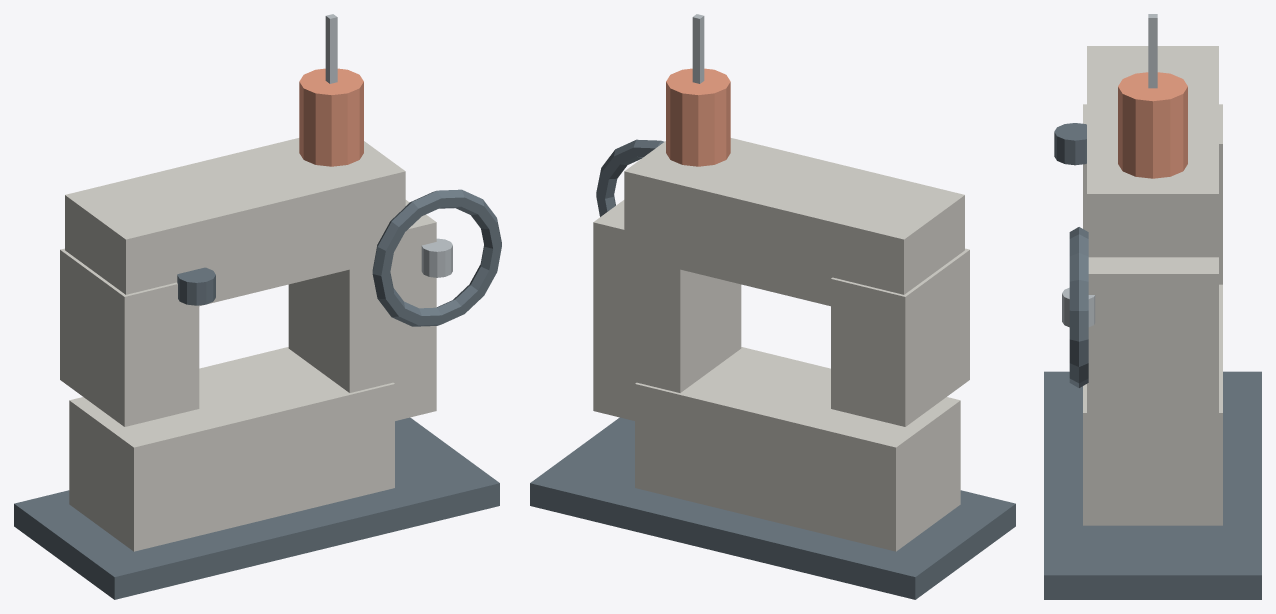
Rendered from warehouse_sewing_machine.glb.
The picture shows the model from 3 angles, left to right: view 1: azimuth 30°, elevation 25°; view 2: azimuth 150°, elevation 25°; view 3: azimuth 270°, elevation 25°; orthographic projection. The views are drawn at different scales.
Visible parts, largest first — view 1: Prop_01_01_Sewing_01_LowerBody_geo, Prop_03_03_Sewing_03_UpperArm_geo, Prop_00_00_Sewing_00_BasePlate_geo, Prop_04_04_Sewing_04_NeedleHead_geo, Prop_02_02_Sewing_02_Upright_geo, Prop_10_10_Sewing_10_HandWheel_geo, Prop_08_08_Sewing_08_Spool_geo, Prop_09_09_Sewing_09_TensionKnob_geo, Prop_11_11_Sewing_11_WheelHub_geo, Prop_07_07_Sewing_07_ThreadGuide_geo; view 2: Prop_01_01_Sewing_01_LowerBody_geo, Prop_03_03_Sewing_03_UpperArm_geo, Prop_00_00_Sewing_00_BasePlate_geo, Prop_02_02_Sewing_02_Upright_geo, Prop_04_04_Sewing_04_NeedleHead_geo, Prop_08_08_Sewing_08_Spool_geo, Prop_10_10_Sewing_10_HandWheel_geo, Prop_07_07_Sewing_07_ThreadGuide_geo; view 3: Prop_02_02_Sewing_02_Upright_geo, Prop_00_00_Sewing_00_BasePlate_geo, Prop_03_03_Sewing_03_UpperArm_geo, Prop_01_01_Sewing_01_LowerBody_geo, Prop_08_08_Sewing_08_Spool_geo, Prop_10_10_Sewing_10_HandWheel_geo, Prop_09_09_Sewing_09_TensionKnob_geo, Prop_04_04_Sewing_04_NeedleHead_geo, Prop_07_07_Sewing_07_ThreadGuide_geo, Prop_11_11_Sewing_11_WheelHub_geo.
Boxes of the visible parts, <box> form: Prop_01_01_Sewing_01_LowerBody_geo: <box>69,347,394,551</box>; Prop_03_03_Sewing_03_UpperArm_geo: <box>65,138,405,306</box>; Prop_00_00_Sewing_00_BasePlate_geo: <box>14,417,499,599</box>; Prop_04_04_Sewing_04_NeedleHead_geo: <box>60,248,199,426</box>; Prop_02_02_Sewing_02_Upright_geo: <box>288,200,436,420</box>; Prop_10_10_Sewing_10_HandWheel_geo: <box>372,189,501,326</box>; Prop_08_08_Sewing_08_Spool_geo: <box>299,68,363,166</box>; Prop_09_09_Sewing_09_TensionKnob_geo: <box>177,267,215,305</box>; Prop_11_11_Sewing_11_WheelHub_geo: <box>421,238,452,277</box>; Prop_07_07_Sewing_07_ThreadGuide_geo: <box>325,14,337,83</box>; Prop_01_01_Sewing_01_LowerBody_geo: <box>635,347,960,551</box>; Prop_03_03_Sewing_03_UpperArm_geo: <box>624,138,964,306</box>; Prop_00_00_Sewing_00_BasePlate_geo: <box>530,417,1015,599</box>; Prop_02_02_Sewing_02_Upright_geo: <box>593,200,741,420</box>; Prop_04_04_Sewing_04_NeedleHead_geo: <box>831,248,969,426</box>; Prop_08_08_Sewing_08_Spool_geo: <box>666,68,730,166</box>; Prop_10_10_Sewing_10_HandWheel_geo: <box>596,139,664,216</box>; Prop_07_07_Sewing_07_ThreadGuide_geo: <box>692,14,704,83</box>; Prop_02_02_Sewing_02_Upright_geo: <box>1087,257,1218,478</box>; Prop_00_00_Sewing_00_BasePlate_geo: <box>1044,371,1261,599</box>; Prop_03_03_Sewing_03_UpperArm_geo: <box>1087,46,1218,257</box>; Prop_01_01_Sewing_01_LowerBody_geo: <box>1083,284,1222,525</box>; Prop_08_08_Sewing_08_Spool_geo: <box>1118,72,1187,178</box>; Prop_10_10_Sewing_10_HandWheel_geo: <box>1069,227,1088,387</box>; Prop_09_09_Sewing_09_TensionKnob_geo: <box>1054,123,1086,165</box>; Prop_04_04_Sewing_04_NeedleHead_geo: <box>1083,104,1222,284</box>; Prop_07_07_Sewing_07_ThreadGuide_geo: <box>1148,14,1157,88</box>; Prop_11_11_Sewing_11_WheelHub_geo: <box>1062,287,1095,327</box>.
Bounding box in the file's own units: 0.4561 × 0.52 × 0.1968.
